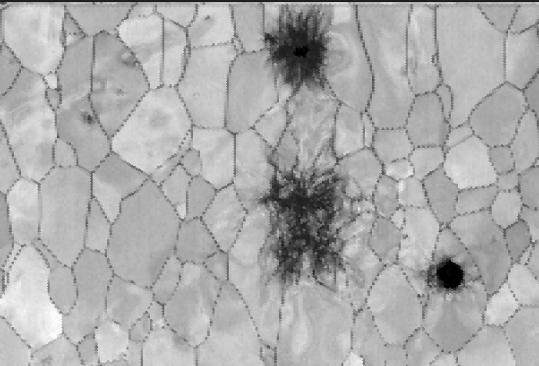good_void: (262, 145, 371, 305), (268, 4, 334, 91), (427, 251, 479, 301), (117, 40, 151, 72), (79, 109, 103, 128), (113, 85, 132, 101), (204, 15, 213, 23)
